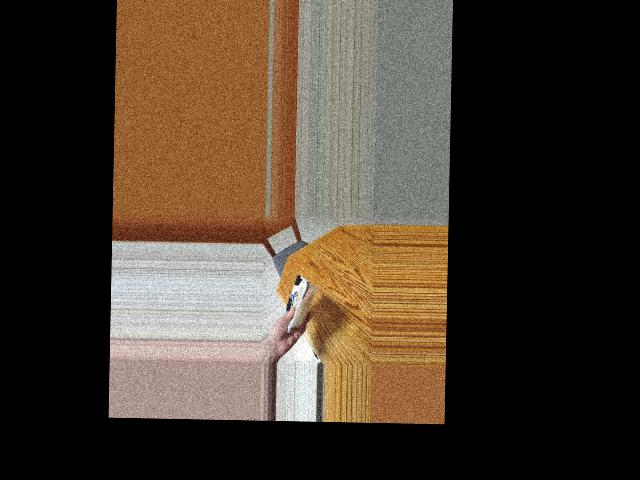cheese: (275, 277, 319, 328)
